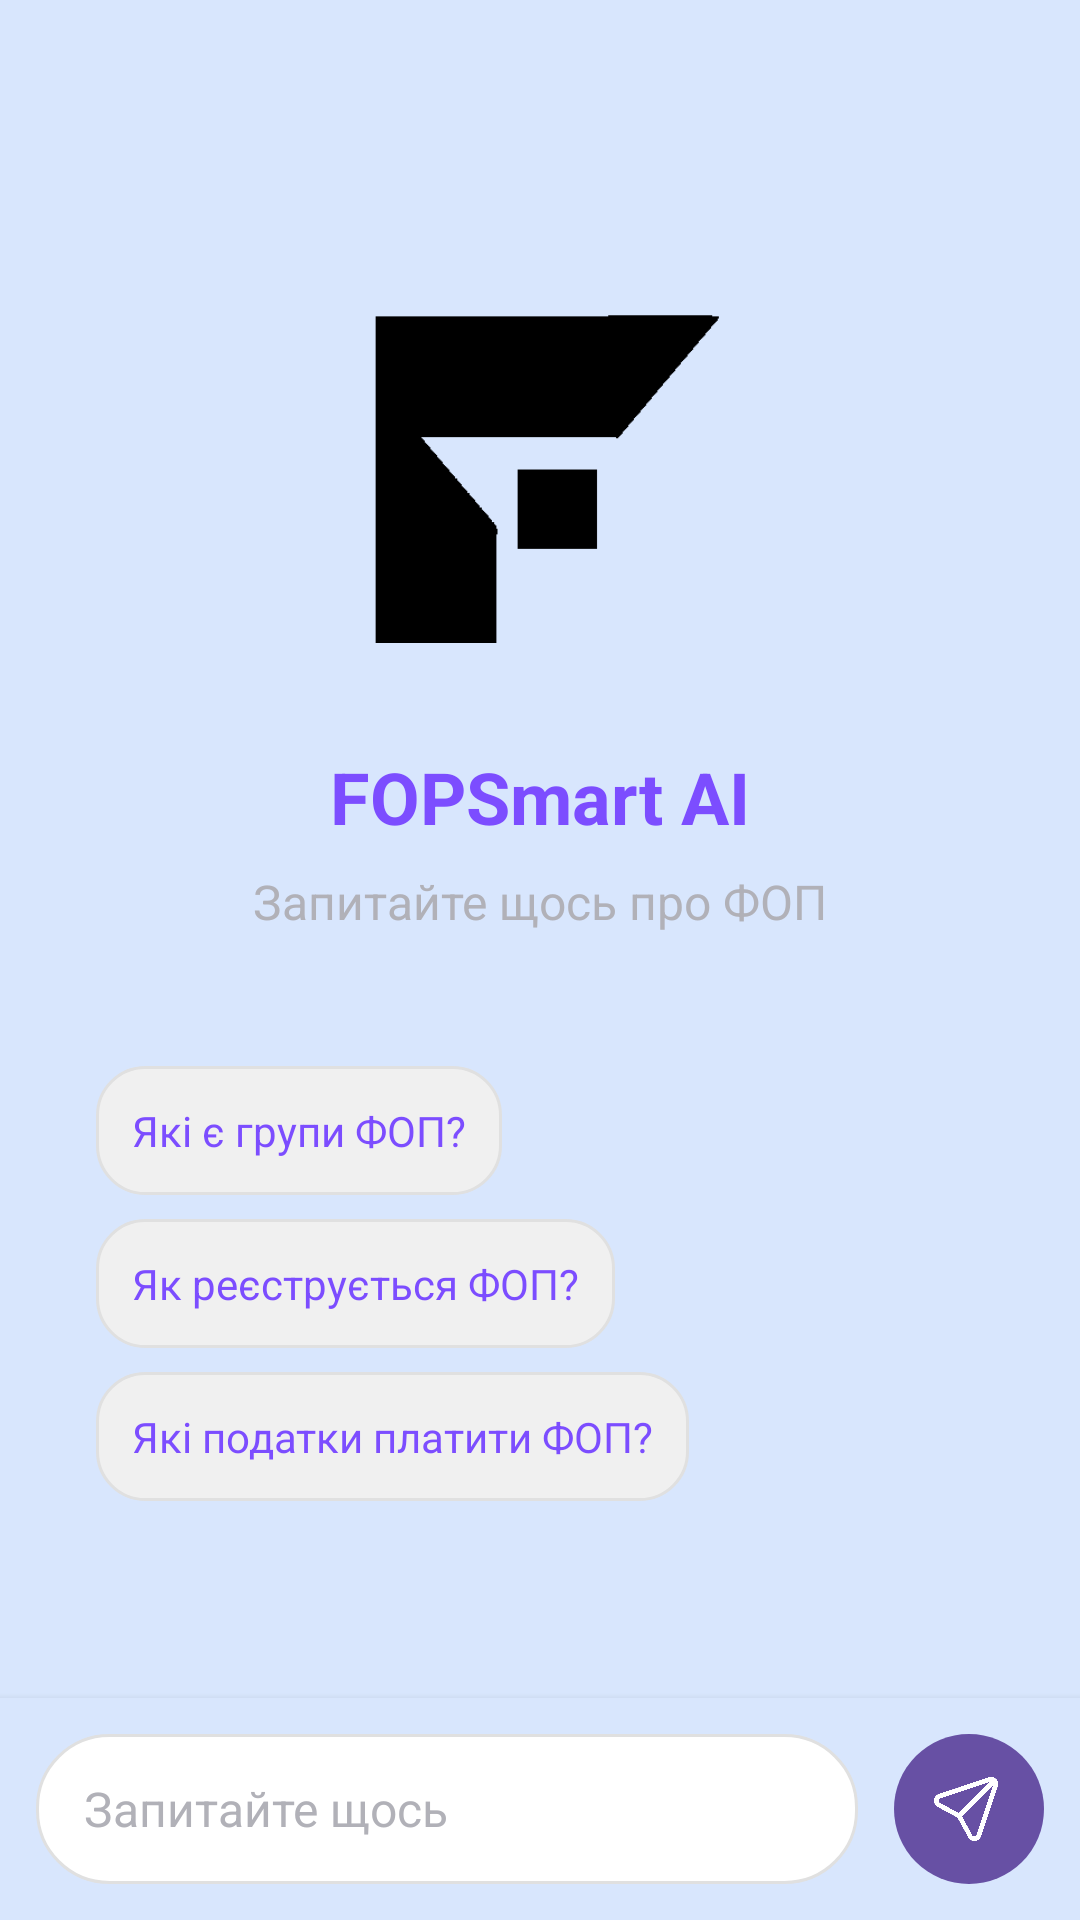

Icons on this 1080 x 1920 Android screen, each with the point to tap as [x,y]:
Відправити повідомлення: [969,1809]
